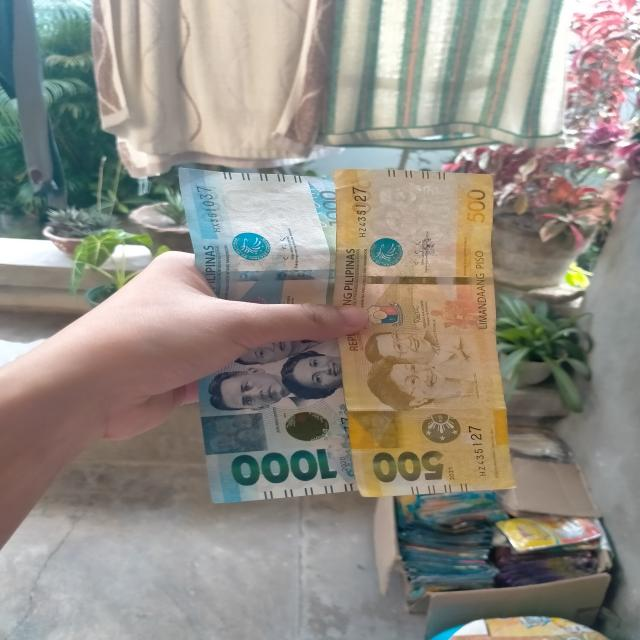concealed_value: (202, 415, 274, 457), (349, 411, 404, 451)
optically_variable_device: (275, 399, 343, 450), (406, 404, 469, 451)
security_thread: (330, 272, 502, 288), (194, 268, 342, 282)
value: (224, 447, 346, 491), (363, 444, 448, 485)
value_watermark: (260, 185, 304, 198), (416, 182, 442, 195)
watermark: (367, 183, 462, 245), (212, 186, 322, 238)
